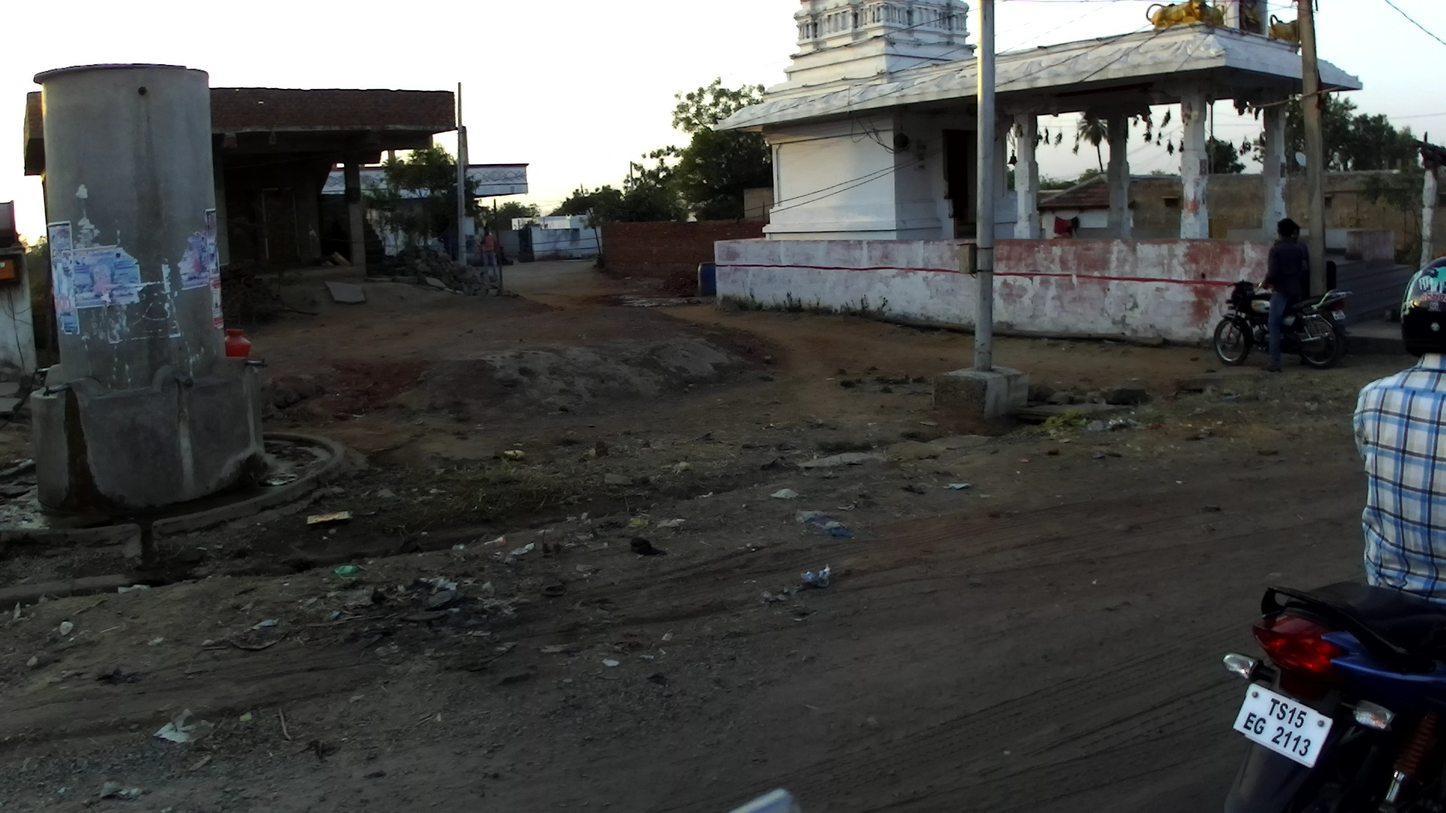motorcycle: (1222, 579, 1446, 813), (1213, 279, 1353, 370)
person: (1289, 222, 1338, 293), (477, 225, 502, 279)
rider: (1352, 257, 1446, 603), (1256, 218, 1310, 373)
